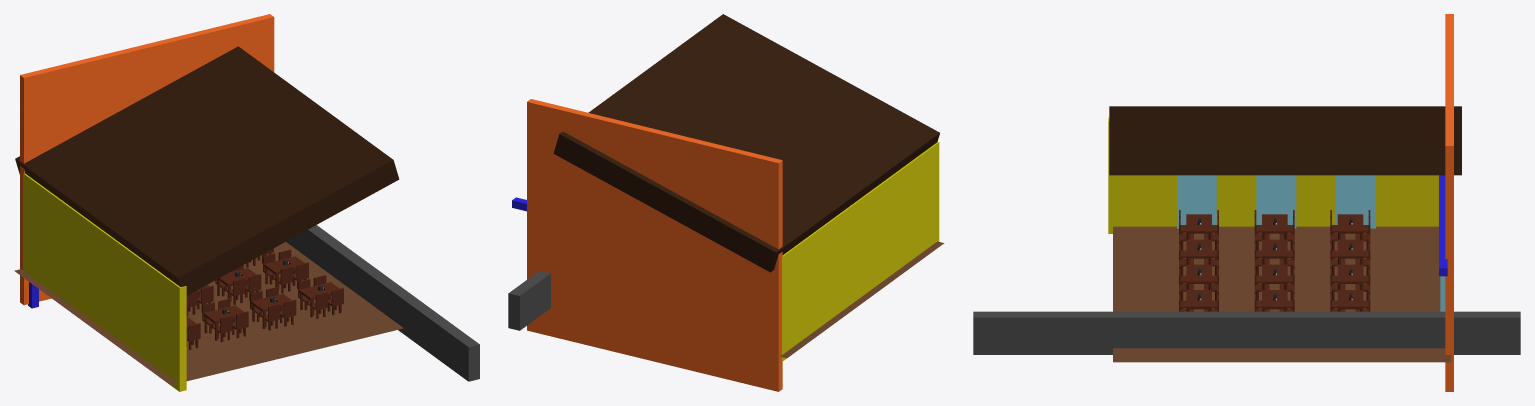
File: MexicanPlaceV2.fbx
3 views of the same model, side by side, from view 1: azimuth 30°, elevation 25°; view 2: azimuth 150°, elevation 25°; view 3: azimuth 270°, elevation 25° (orthographic). The views are drawn at different scales.
Parts seen in each view (by area): view 1: Cube.004, Cube, Cube.001, Plane, Cylinder.002, Cube.008; view 2: Cube.001, Cube.004, Cube, Cube.008, Plane; view 3: Plane, Cube.004, Cube.008, Cube, Cylinder.002, Cube.003, Cube.001, Cube.005.
Part boxes in pixels (<box>): Cube.004: <box>15,46,399,295</box>; Cube: <box>23,173,186,391</box>; Cube.001: <box>20,14,274,305</box>; Plane: <box>14,242,403,385</box>; Cylinder.002: <box>186,248,343,349</box>; Cube.008: <box>286,225,479,381</box>; Cube.001: <box>527,99,782,391</box>; Cube.004: <box>553,14,939,272</box>; Cube: <box>782,142,939,361</box>; Cube.008: <box>508,270,550,330</box>; Plane: <box>780,241,944,358</box>; Plane: <box>1113,226,1451,362</box>; Cube.004: <box>1109,106,1461,175</box>; Cube.008: <box>973,311,1520,354</box>; Cube: <box>1108,117,1438,233</box>; Cylinder.002: <box>1179,210,1370,311</box>; Cube.003: <box>1177,175,1375,228</box>; Cube.001: <box>1445,14,1453,391</box>; Cube.005: <box>1439,175,1447,276</box>.
Bounding box in the file's own units: 77816 × 62067 × 124006.
